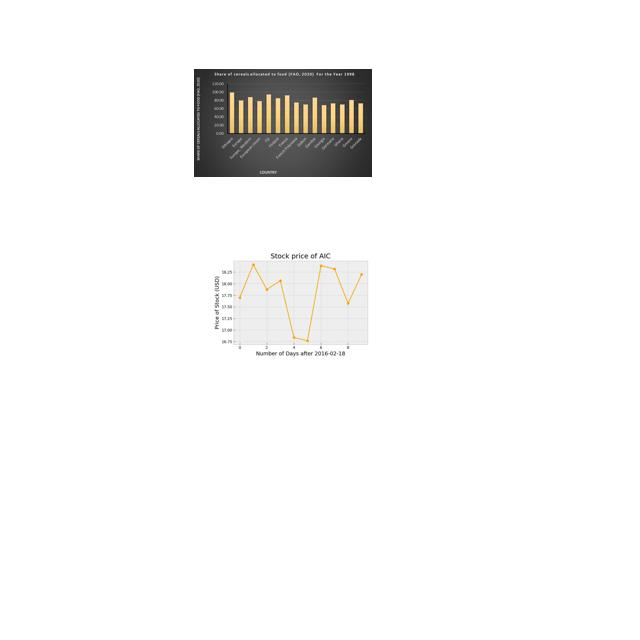Graph: (212, 237, 385, 367), (194, 69, 372, 177)
